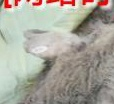text: (26, 38, 51, 61)
